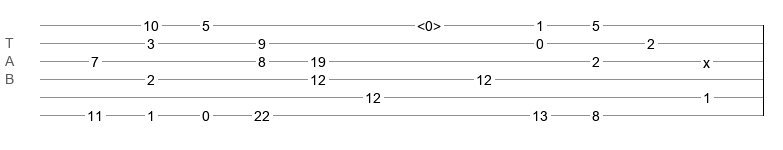0: (202, 108, 210, 118), (536, 36, 544, 46)
1: (147, 108, 155, 118), (536, 18, 544, 28), (703, 90, 711, 100)
10: (143, 18, 159, 28)
11: (87, 108, 103, 118)
12: (310, 72, 326, 82), (365, 90, 381, 100), (476, 72, 492, 82)
13: (532, 108, 548, 118)
19: (310, 54, 326, 64)
2: (147, 72, 155, 82), (592, 54, 600, 64), (647, 36, 655, 46)
22: (254, 108, 270, 118)
3: (147, 36, 155, 46)
5: (202, 18, 210, 28), (592, 18, 600, 28)
7: (91, 54, 99, 64)
8: (258, 54, 266, 64), (592, 108, 600, 118)
9: (258, 36, 266, 46)
harmonic: (417, 18, 441, 28)
x: (703, 55, 710, 63)
